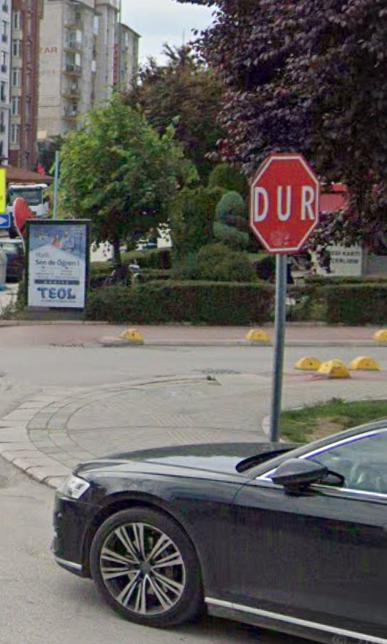stop: (249, 150, 319, 252)
